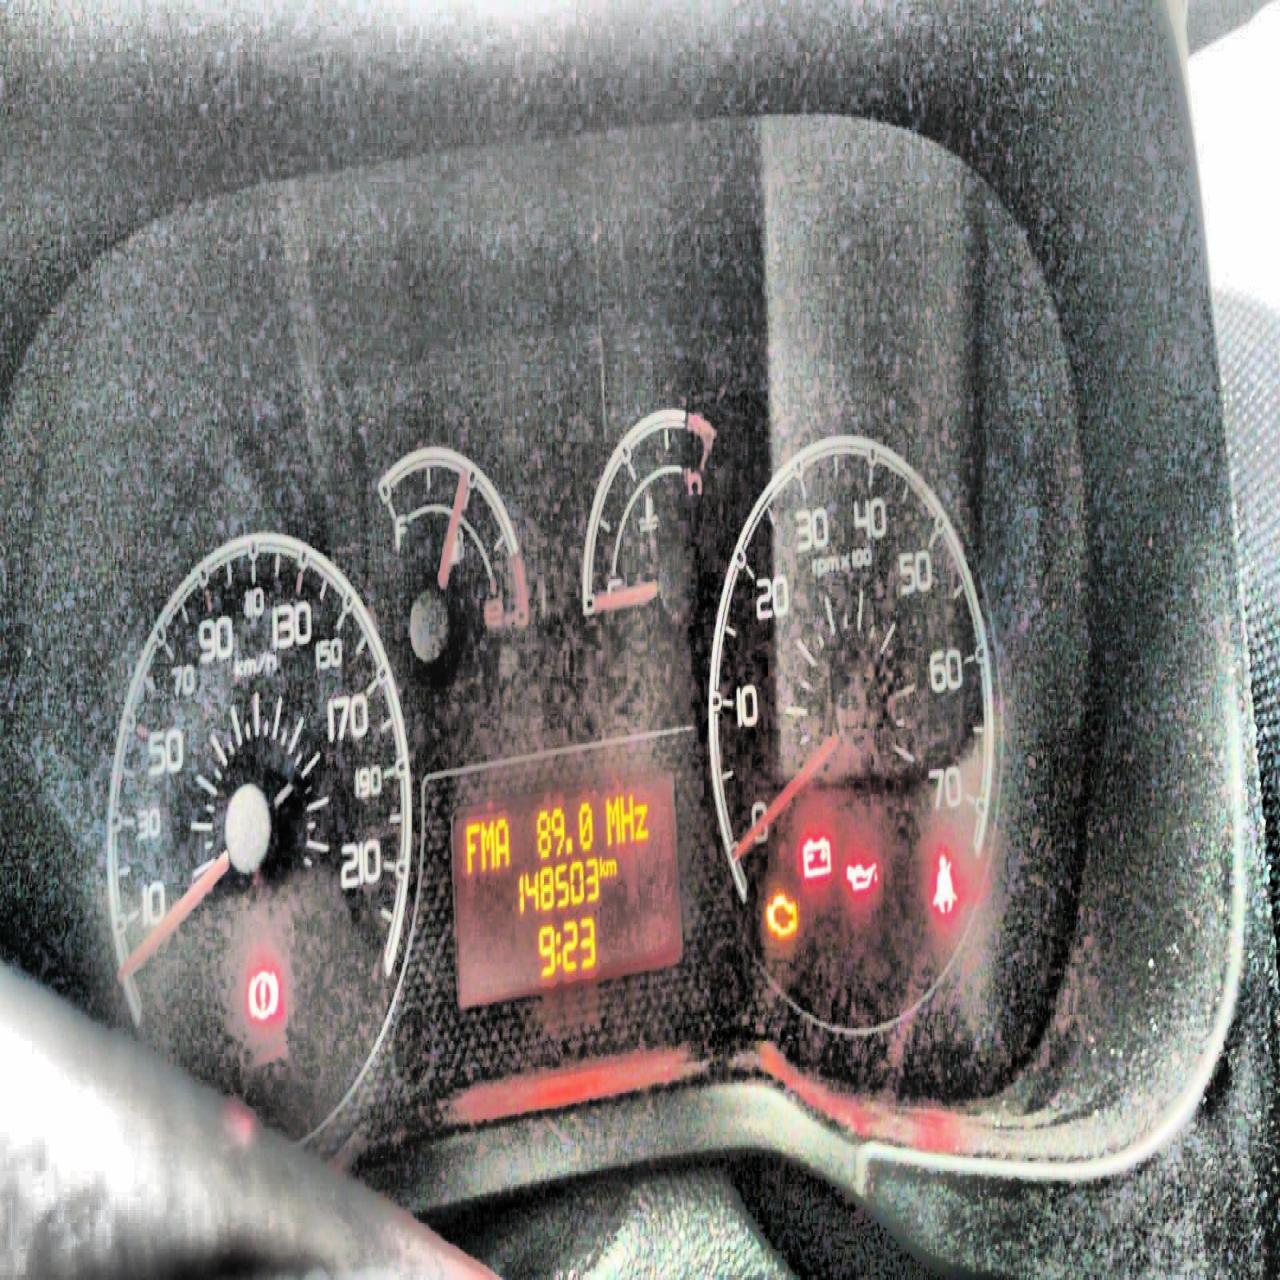-: (564, 835, 573, 856)
0: (577, 798, 593, 852), (568, 857, 584, 904)
1: (517, 872, 524, 914)
2: (560, 918, 578, 974)
3: (579, 914, 595, 971), (584, 856, 599, 903)
4: (524, 867, 539, 911)
5: (554, 860, 568, 910)
8: (536, 806, 550, 858), (539, 864, 554, 911)
9: (538, 922, 556, 978), (551, 803, 565, 859)
X: (605, 794, 621, 847), (479, 818, 495, 872), (464, 822, 479, 874), (495, 817, 510, 869), (620, 792, 634, 840), (633, 802, 649, 840), (554, 930, 561, 966), (606, 857, 617, 877), (599, 856, 606, 878)
odometer: (448, 764, 686, 1015)
